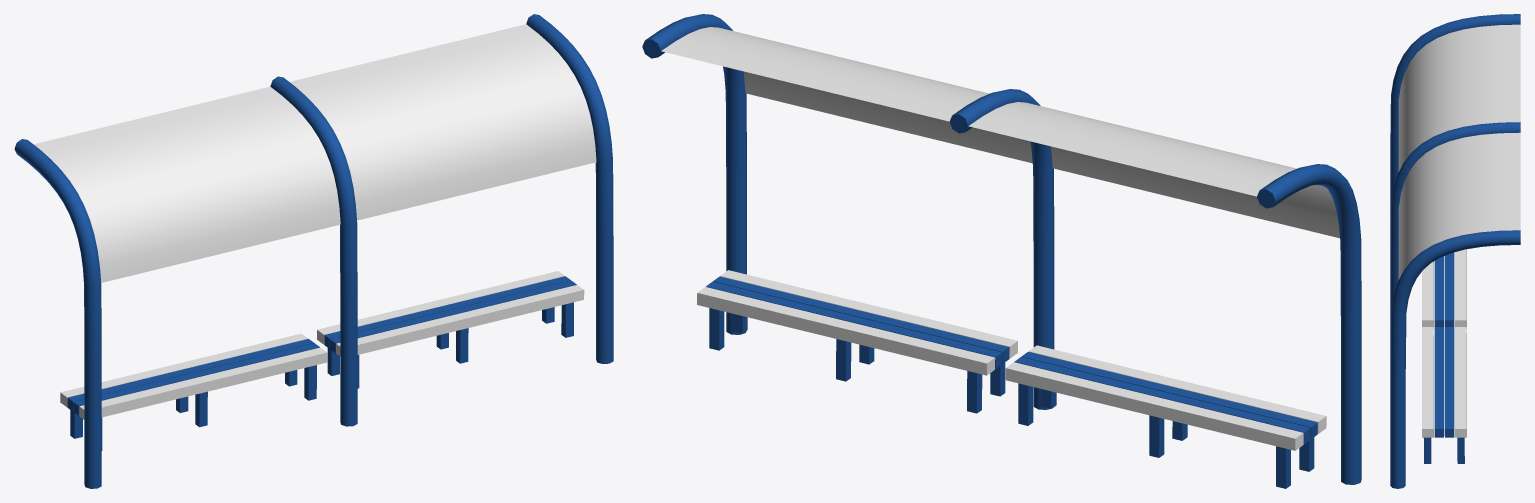
Rendered from Benches.fbx.
The picture shows the model from 3 angles, left to right: view 1: azimuth 30°, elevation 25°; view 2: azimuth 150°, elevation 25°; view 3: azimuth 270°, elevation 25°; orthographic projection. The views are drawn at different scales.
Visible parts, largest first — view 1: Benches; view 2: Benches; view 3: Benches.
Part boxes in pixels (bbox=[...]): Benches: bbox=[14, 14, 613, 488]; Benches: bbox=[642, 14, 1361, 488]; Benches: bbox=[1390, 14, 1520, 488].
Size of the model in its own units: 411 by 219 by 102.
